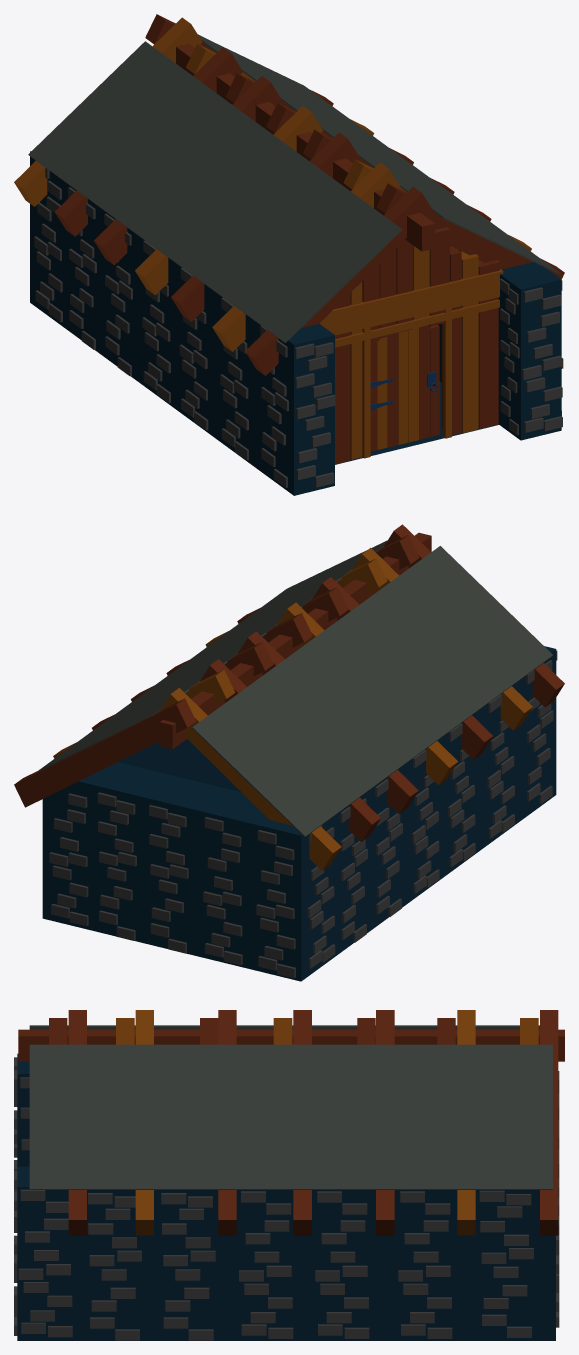
Rendered from Cabana.fbx.
3 views of the same model, one above another, from view 1: azimuth 30°, elevation 25°; view 2: azimuth 150°, elevation 25°; view 3: azimuth 270°, elevation 25° (orthographic). The views are drawn at different scales.
Parts seen in each view (by area): view 1: Cabana; view 2: Cabana; view 3: Cabana.
Part boxes in pixels (x1,y1,x2,y2): Cabana: (14,14,564,495); Cabana: (14,524,564,981); Cabana: (14,1010,564,1340).
Bounding box in the file's own units: 714 × 548 × 1042.
